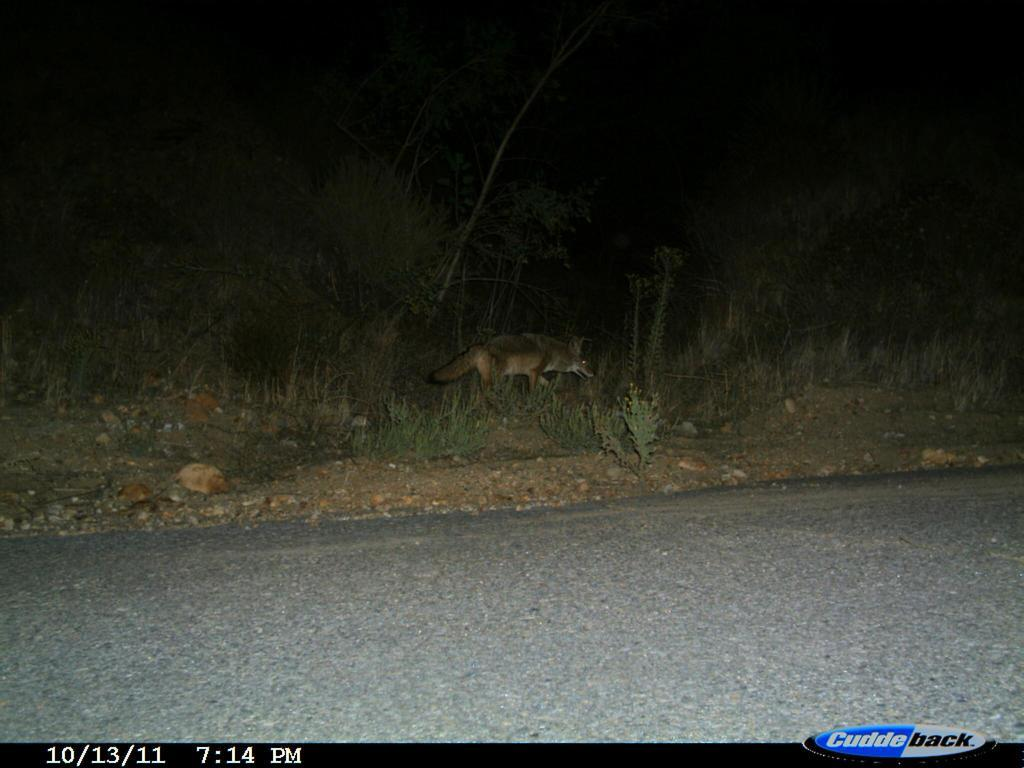coyote: (425, 328, 602, 420)
